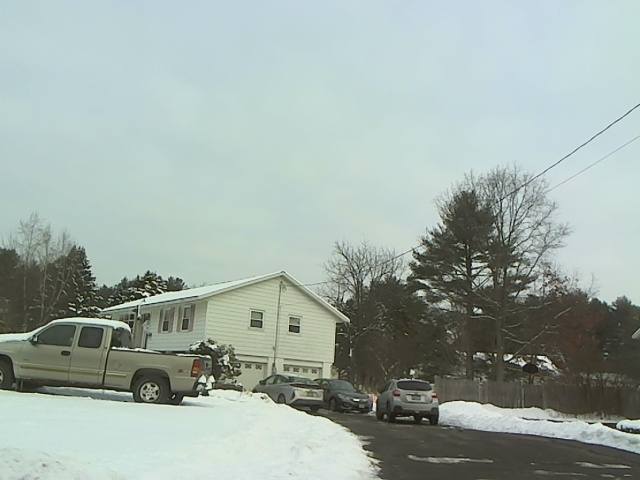Ploughed: (343, 416, 637, 478)
